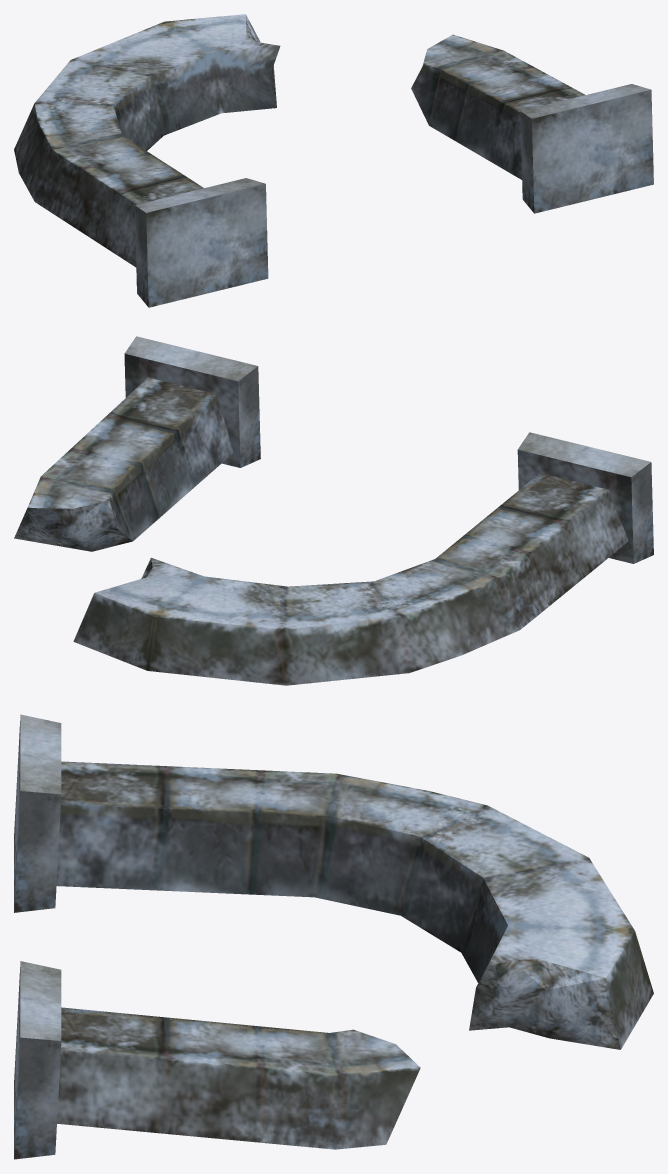
The model's file is StoneOther2.FBX.
3 views of the same model, one above another, from view 1: azimuth 30°, elevation 25°; view 2: azimuth 150°, elevation 25°; view 3: azimuth 270°, elevation 25° (orthographic). The views are drawn at different scales.
Visible parts, largest first — view 1: Object746; view 2: Object746; view 3: Object746.
Part boxes in pixels (x1=…): Object746: x1=14, y1=14, x2=653, y2=307; Object746: x1=14, y1=336, x2=653, y2=685; Object746: x1=14, y1=714, x2=653, y2=1159.
Bounding box in the file's own units: 572 × 102 × 479.
